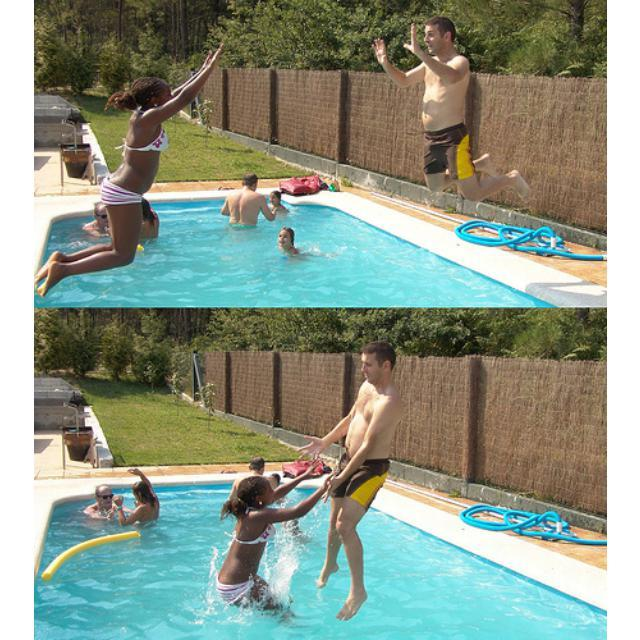human: (313, 337, 402, 614), (216, 463, 308, 616), (217, 171, 268, 233), (122, 465, 159, 525), (83, 483, 118, 521), (277, 218, 296, 256), (267, 186, 286, 214)
